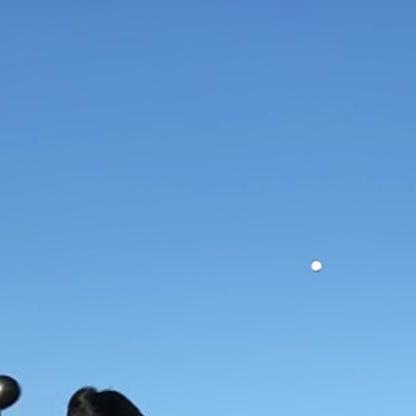golfball: (308, 256, 322, 271)
